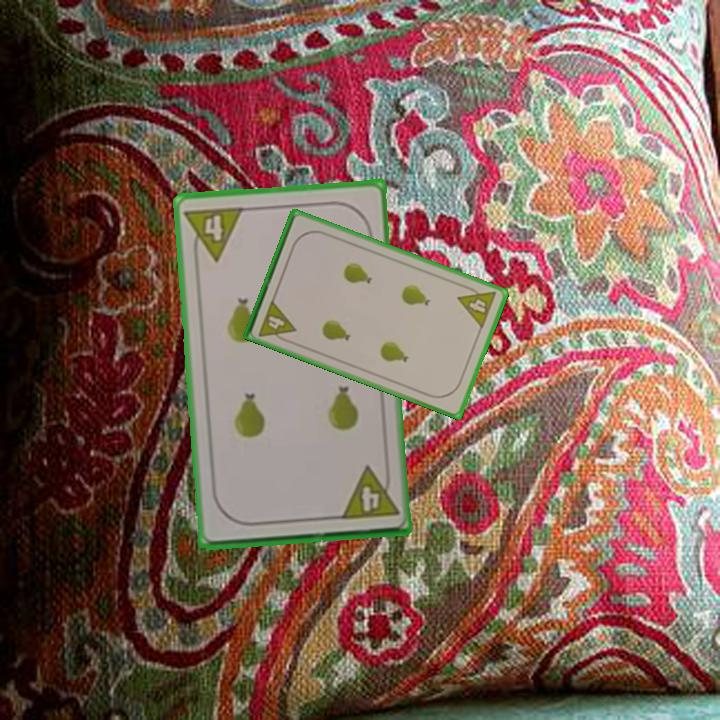4p: (181, 202, 246, 265), (336, 462, 401, 523), (454, 281, 499, 331), (255, 296, 299, 346)
